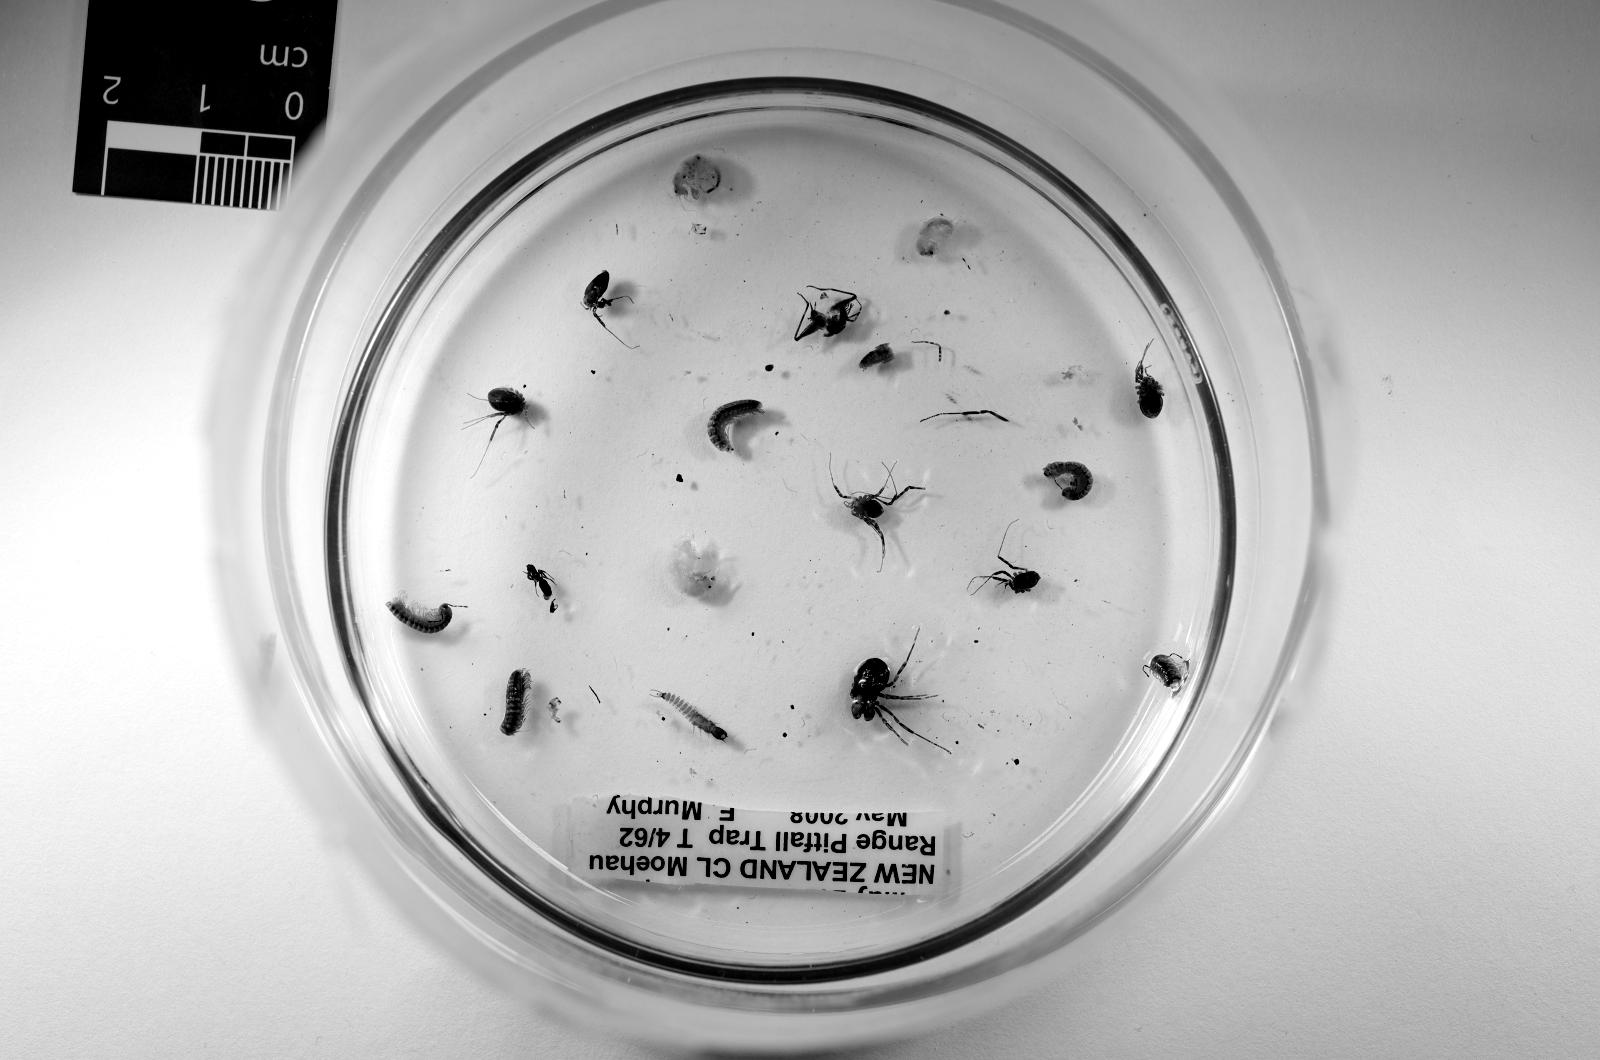amphipoda: (666, 537, 712, 596), (672, 155, 722, 199), (916, 217, 953, 255)
coleoptera_larva: (653, 693, 728, 739)
isopoda: (706, 401, 762, 453), (1044, 463, 1094, 500)
opiliones: (834, 484, 925, 562), (850, 655, 934, 736), (981, 540, 1041, 593), (484, 388, 528, 441), (1134, 354, 1162, 419), (584, 270, 612, 329)
orthoptera: (794, 286, 862, 342)
